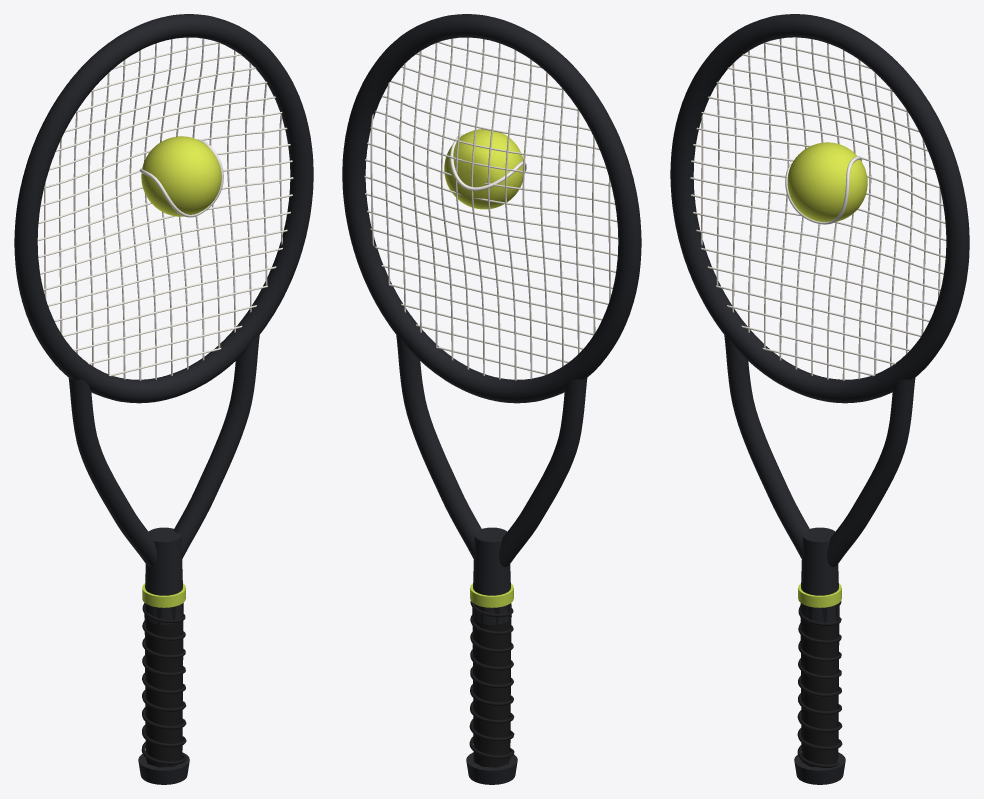
The model's file is racket-draco.glb.
3 renders of one model, left to right at view 1: azimuth 30°, elevation 25°; view 2: azimuth 150°, elevation 25°; view 3: azimuth 330°, elevation 25°, orthographic.
Visible parts, largest first — view 1: head_frame, ball_body, throat_strut_right, grip, throat_strut_left, shaft, grip_wrap, butt_cap, string_main_7, string_main_6, string_main_5, string_main_8 (+17 smaller); view 2: head_frame, grip, throat_strut_right, throat_strut_left, ball_body, shaft, grip_wrap, butt_cap, string_main_7, string_main_6, string_main_11, string_main_8 (+17 smaller); view 3: head_frame, ball_body, grip, throat_strut_left, throat_strut_right, shaft, grip_wrap, butt_cap, string_main_11, string_main_12, string_main_5, string_main_6 (+17 smaller).
Part boxes in pixels (x1,y1,x2,y2): head_frame: [14, 14, 313, 403]; ball_body: [141, 136, 221, 216]; throat_strut_right: [174, 335, 259, 558]; grip: [144, 603, 183, 767]; throat_strut_left: [68, 378, 157, 567]; shaft: [144, 527, 183, 624]; grip_wrap: [141, 603, 186, 764]; butt_cap: [138, 752, 189, 784]; string_main_7: [129, 50, 141, 380]; string_main_6: [115, 60, 125, 379]; string_main_5: [102, 72, 109, 374]; string_main_8: [144, 43, 156, 379]; head_frame: [342, 14, 641, 403]; grip: [472, 603, 511, 767]; throat_strut_right: [396, 335, 481, 559]; throat_strut_left: [498, 378, 587, 567]; ball_body: [444, 129, 523, 209]; shaft: [472, 527, 511, 624]; grip_wrap: [469, 601, 514, 758]; butt_cap: [466, 752, 517, 784]; string_main_7: [505, 50, 516, 380]; string_main_6: [522, 59, 532, 379]; string_main_11: [440, 38, 453, 360]; string_main_8: [487, 43, 500, 379]; head_frame: [670, 14, 969, 403]; ball_body: [787, 142, 867, 221]; grip: [800, 603, 839, 767]; throat_strut_left: [724, 335, 809, 558]; throat_strut_right: [826, 378, 915, 567]; shaft: [800, 527, 839, 624]; grip_wrap: [797, 601, 842, 767]; butt_cap: [794, 752, 845, 784]; string_main_11: [858, 60, 871, 379]; string_main_12: [874, 72, 885, 374]; string_main_5: [764, 43, 771, 348]; string_main_6: [779, 38, 789, 360].
Size of the model in its own units: 0.2845 by 0.6948 by 0.0687.
